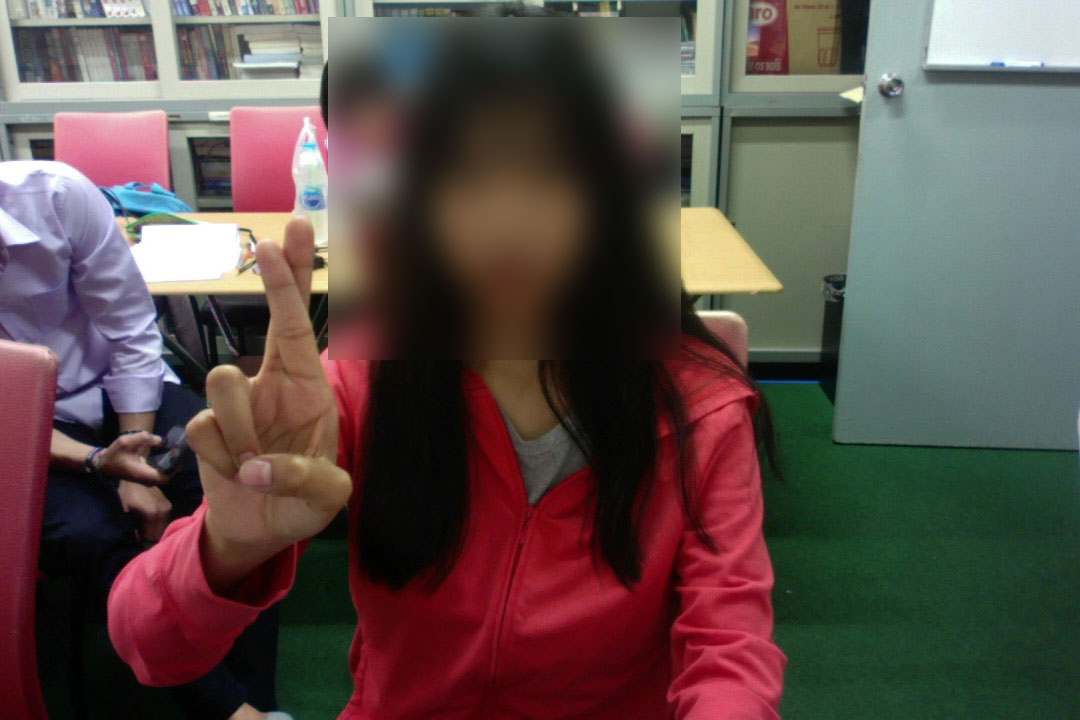rao: (163, 213, 359, 552)
